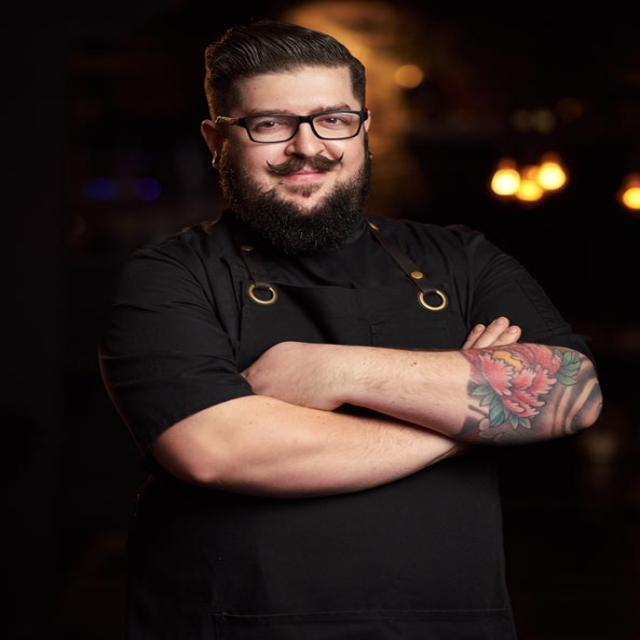human: (90, 26, 603, 640)
